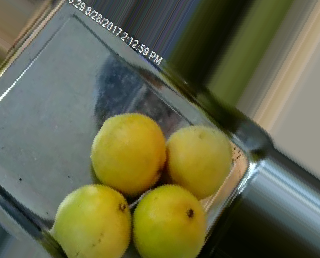Mango: (89, 110, 175, 195), (50, 184, 134, 255), (129, 183, 208, 256), (165, 121, 238, 197)
